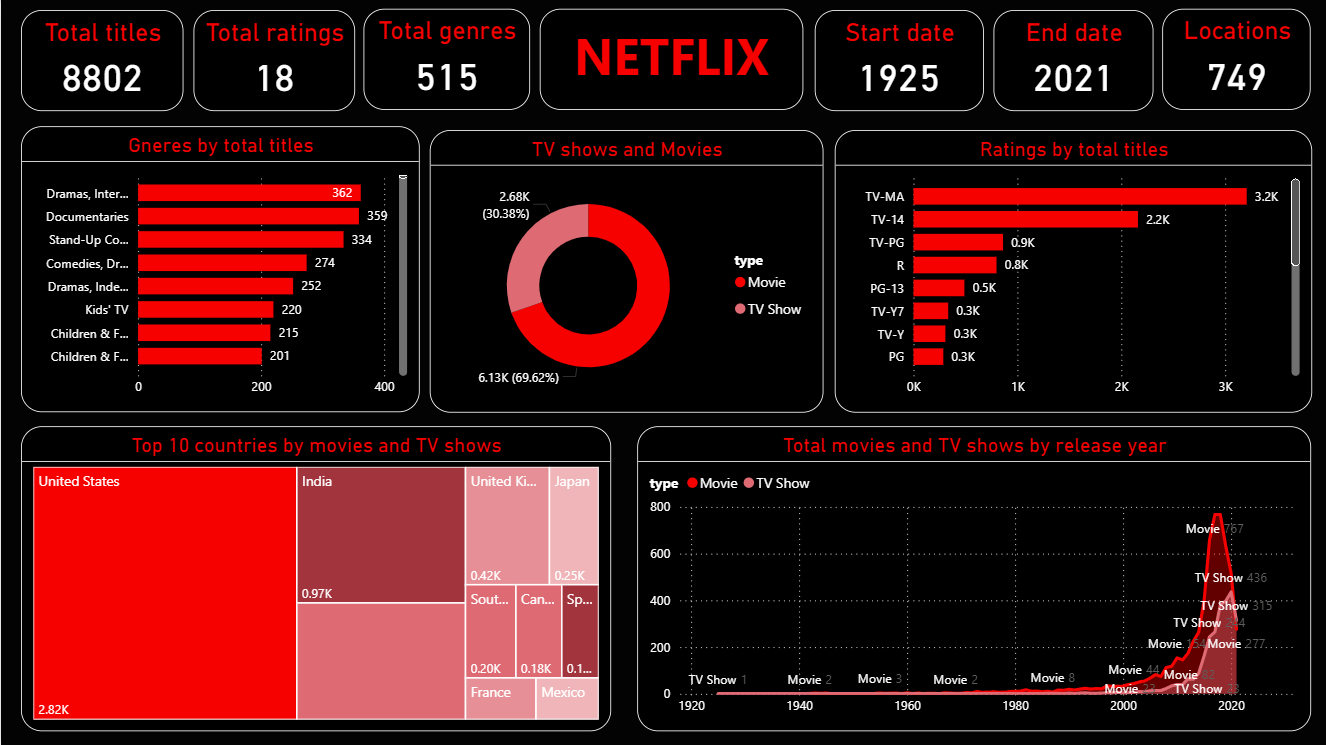

The page's visual inventory and layout, read from the dashboard file:
{"tool":"powerbi","page":{"name":"Page 1","canvas":[1280,720],"ordinal":0},"visuals":[{"type":"donutChart","title":"TV shows and Movies","fields":{"Y":["CountNonNull(netflix_titles.show_id)"],"Category":["netflix_titles.type"]},"box":[413.8,125.5,380,272.7],"z":0},{"type":"barChart","title":"Ratings by total titles","fields":{"Category":["netflix_titles.rating"],"Y":["CountNonNull(netflix_titles.show_id)"]},"box":[804.7,125.5,460.9,272.7],"z":1},{"type":"barChart","title":"Gneres by total titles","fields":{"Category":["netflix_titles.listed_in"],"Y":["CountNonNull(netflix_titles.show_id)"]},"box":[19.3,121.9,384.9,276.3],"z":2},{"type":"areaChart","title":"Total movies and TV shows by release year","fields":{"Category":["netflix_titles.release_year"],"Y":["CountNonNull(netflix_titles.show_id)"],"Series":["netflix_titles.type"]},"box":[614.1,411.4,650.3,294.4],"z":3},{"type":"treemap","title":"Top 10 countries by movies and TV shows","fields":{"Group":["netflix_titles.country"],"Values":["CountNonNull(netflix_titles.show_id)"]},"box":[19.3,411.4,569.4,294.4],"z":4},{"type":"textbox","box":[520,8.4,254.6,97.7],"z":5},{"type":"card","title":"Total genres","fields":{"Values":["Count(netflix_titles.listed_in)"]},"box":[349.9,8.4,160.5,97.7],"z":6},{"type":"card","title":"End date","fields":{"Values":["Max(netflix_titles.release_year)"]},"box":[957.9,9.7,154.4,97.7],"z":7},{"type":"card","title":"Total ratings","fields":{"Values":["Count(netflix_titles.rating)"]},"box":[185.8,9.7,155.6,97.7],"z":8},{"type":"card","title":"Locations","fields":{"Values":["Count(netflix_titles.country)"]},"box":[1120.8,8.4,143.6,97.7],"z":9},{"type":"card","title":"Start date","fields":{"Values":["Min(netflix_titles.release_year)"]},"box":[785.4,9.7,162.9,97.7],"z":10},{"type":"card","title":"Total titles","fields":{"Values":["Count(netflix_titles.title)"]},"box":[19.3,9.7,156.8,97.7],"z":11}]}

Visuals, with their boxes in screenshot pixels (x1, y1, x2, y2), scaled from the page's 1280x720 canvas onto the 1326x745 screenshot:
"TV shows and Movies" donutChart: Rect(429, 130, 822, 412)
"Ratings by total titles" barChart: Rect(834, 130, 1311, 412)
"Gneres by total titles" barChart: Rect(20, 126, 419, 412)
"Total movies and TV shows by release year" areaChart: Rect(636, 426, 1310, 730)
"Top 10 countries by movies and TV shows" treemap: Rect(20, 426, 610, 730)
textbox: Rect(539, 9, 802, 110)
"Total genres" card: Rect(362, 9, 529, 110)
"End date" card: Rect(992, 10, 1152, 111)
"Total ratings" card: Rect(192, 10, 354, 111)
"Locations" card: Rect(1161, 9, 1310, 110)
"Start date" card: Rect(814, 10, 982, 111)
"Total titles" card: Rect(20, 10, 182, 111)
